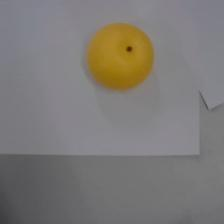yellow: (86, 22, 154, 90)
